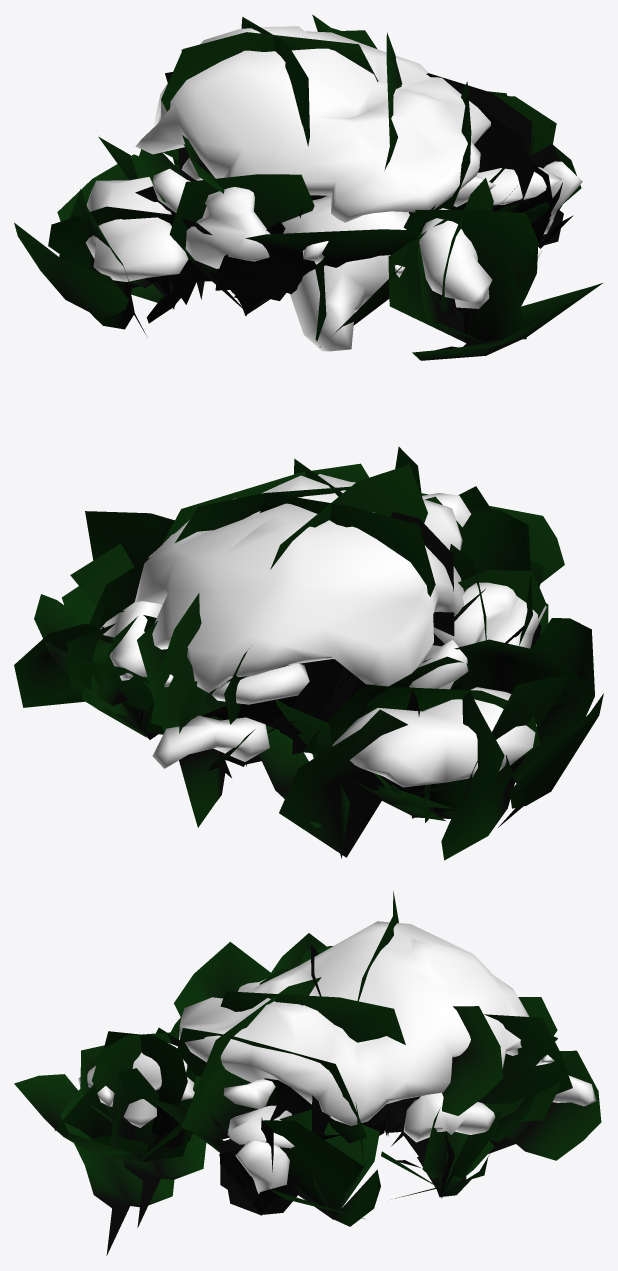
File: SnowBushClumpARHE_LOD1.fbx
The picture shows the model from 3 angles, top to bottom: view 1: azimuth 30°, elevation 25°; view 2: azimuth 150°, elevation 25°; view 3: azimuth 270°, elevation 25°; orthographic projection. The views are drawn at different scales.
Parts seen in each view (by area): view 1: SnowBushClumpARHE_LOD1; view 2: SnowBushClumpARHE_LOD1; view 3: SnowBushClumpARHE_LOD1.
Part boxes in pixels (<box>): SnowBushClumpARHE_LOD1: <box>14,14,602,360</box>; SnowBushClumpARHE_LOD1: <box>14,446,603,860</box>; SnowBushClumpARHE_LOD1: <box>14,891,601,1255</box>.
Bounding box in the file's own units: 3.77 × 2.23 × 4.3.
